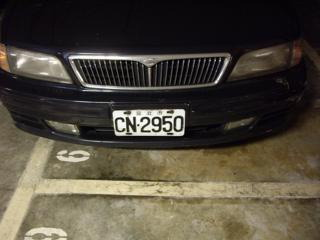plate: (110, 106, 187, 138)
